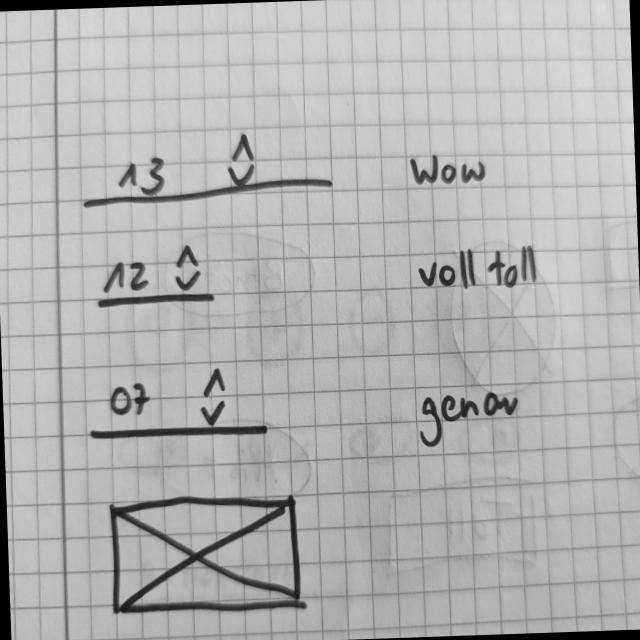image: (102, 488, 306, 618)
label: (409, 239, 542, 295), (414, 386, 522, 452), (404, 143, 490, 190)
number-input: (78, 123, 336, 211), (83, 364, 270, 444), (93, 240, 218, 312)
